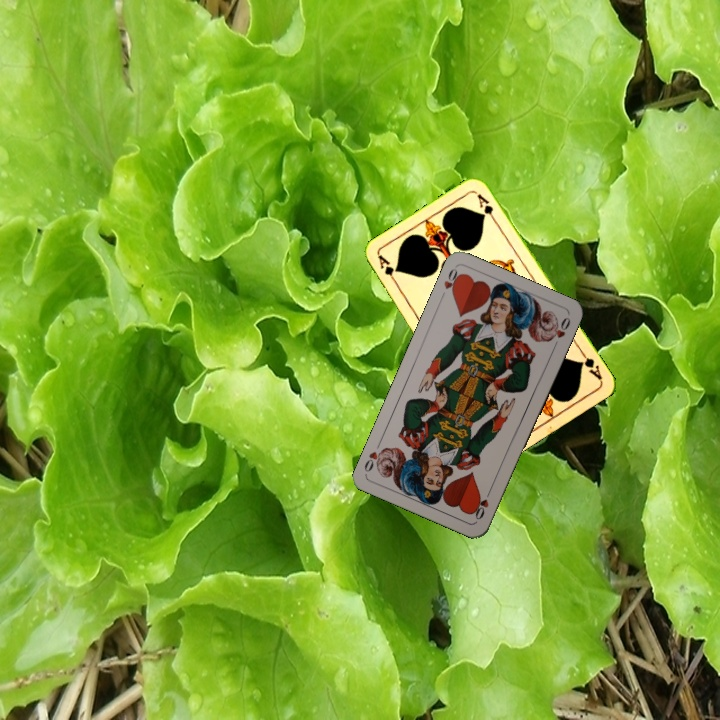GA: (576, 347, 605, 383), (374, 251, 401, 289)
HO: (437, 264, 464, 302), (471, 485, 494, 523)
